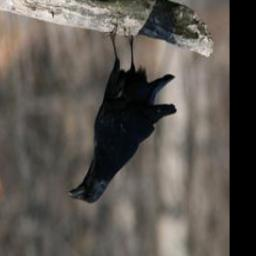Crow: (67, 21, 177, 208)
